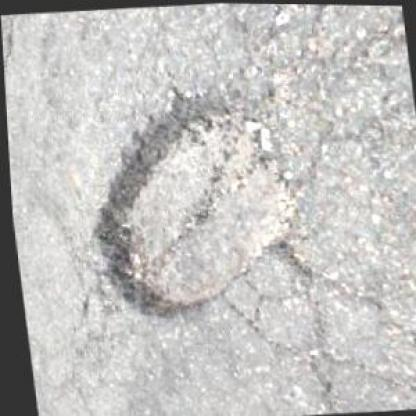pothole: (69, 80, 311, 324)
